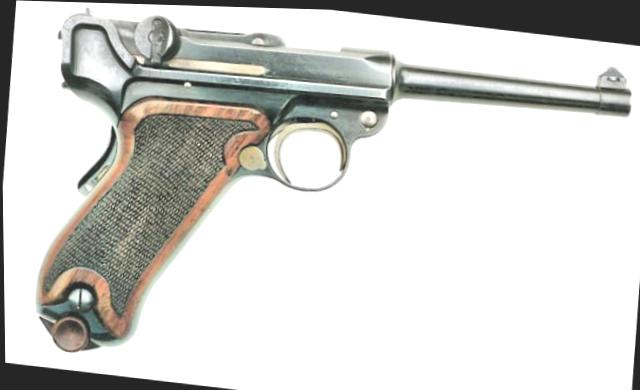pistol: (13, 0, 634, 390)
